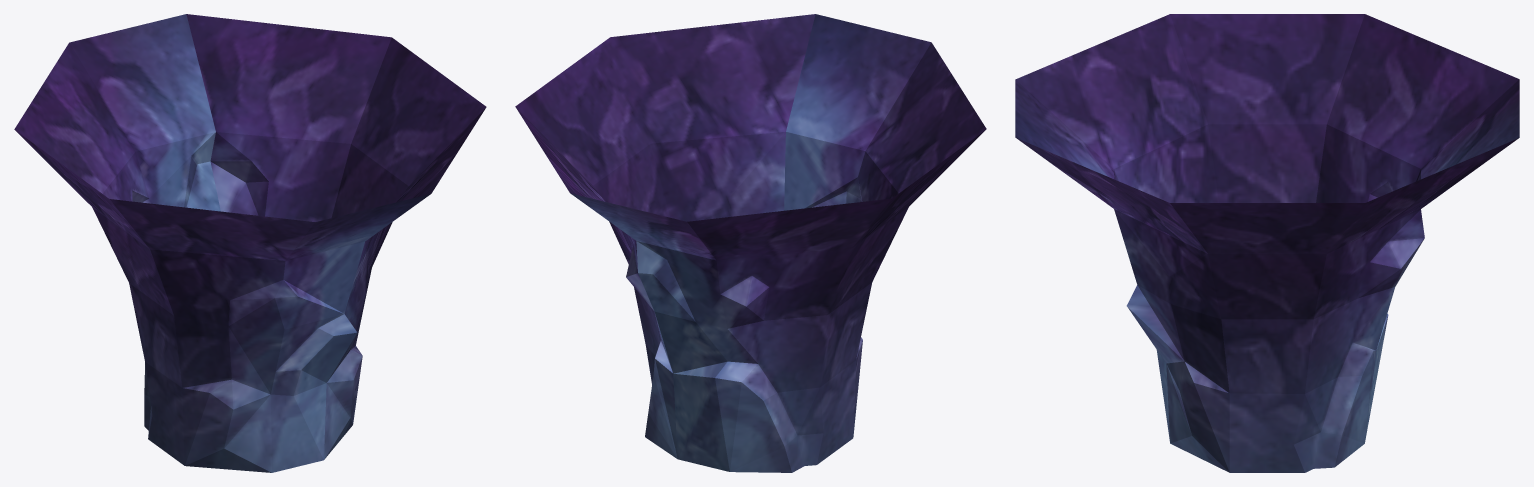
File: scenes_cave_road02.FBX
3 views of the same model, side by side, from view 1: azimuth 30°, elevation 25°; view 2: azimuth 150°, elevation 25°; view 3: azimuth 270°, elevation 25° (orthographic). The views are drawn at different scales.
Parts seen in each view (by area): view 1: scenes_cave_road02; view 2: scenes_cave_road02; view 3: scenes_cave_road02.
Boxes of the visible parts, left/top/right/bottom form: scenes_cave_road02: left=14, top=14, right=486, bottom=472; scenes_cave_road02: left=515, top=14, right=986, bottom=472; scenes_cave_road02: left=1015, top=14, right=1519, bottom=472.
Size of the model in its own units: 710 by 564 by 800.
